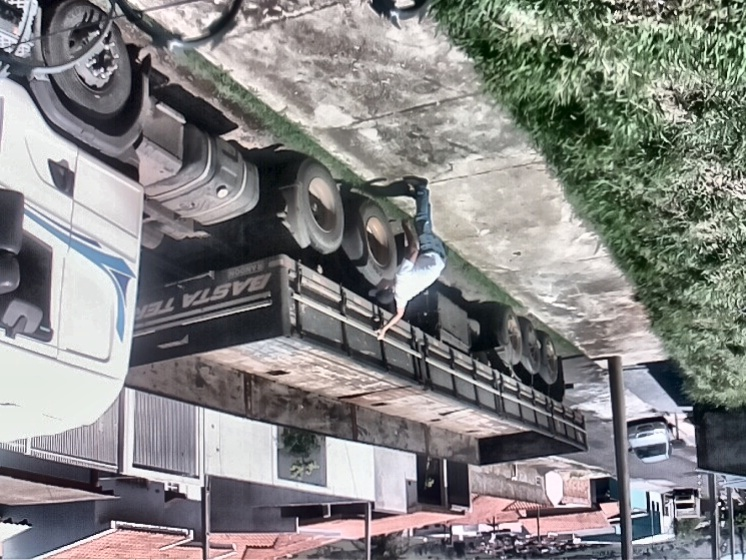person: (373, 173, 449, 342)
